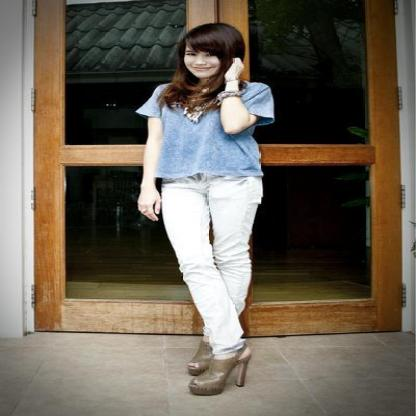pants: (162, 176, 262, 353)
shirt: (138, 82, 274, 190)
shoe: (187, 338, 251, 396)
